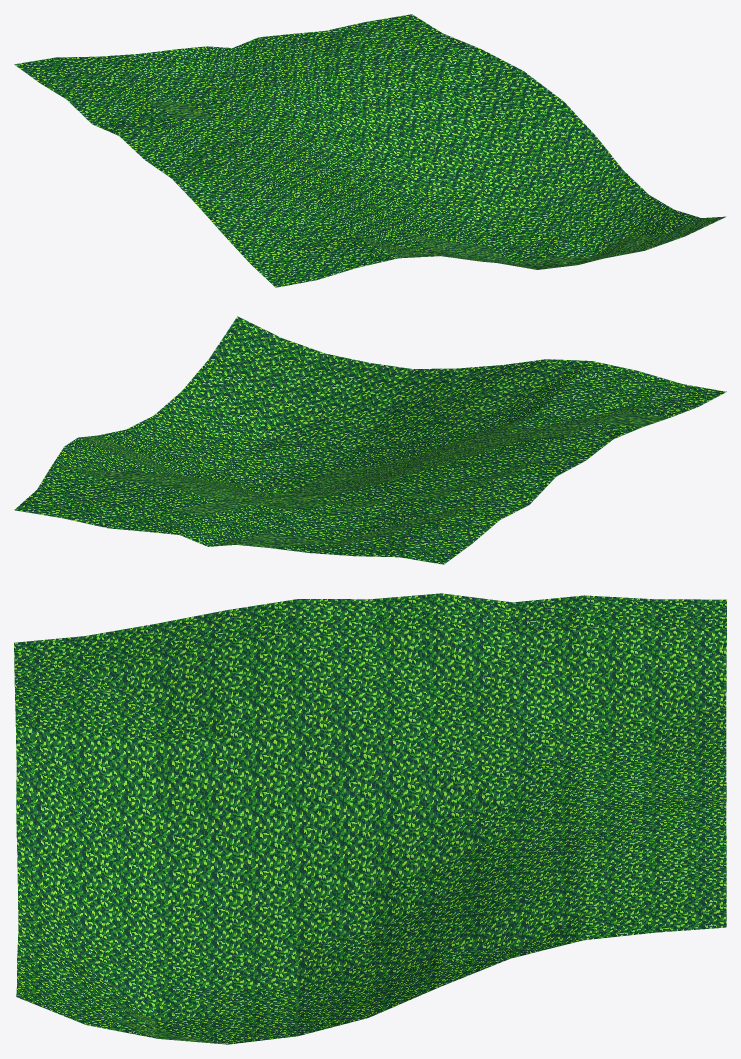
Rendered from terrain.glb.
3 renders of one model, top to bottom at view 1: azimuth 30°, elevation 25°; view 2: azimuth 150°, elevation 25°; view 3: azimuth 270°, elevation 25°, orthographic. The views are drawn at different scales.
Visible parts, largest first — view 1: Plane; view 2: Plane; view 3: Plane.
Boxes of the visible parts, x1,y1,x2,y2 form: Plane: [14, 14, 726, 287]; Plane: [14, 316, 726, 564]; Plane: [14, 593, 726, 1044].
Bounding box in the file's own units: 39.98 × 11.29 × 40.05.
1 material, 1 textured.
